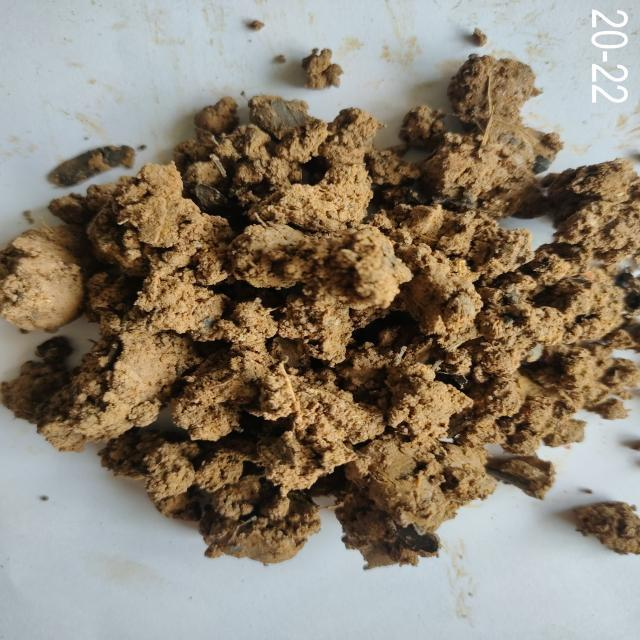soil: (136, 209, 512, 474)
